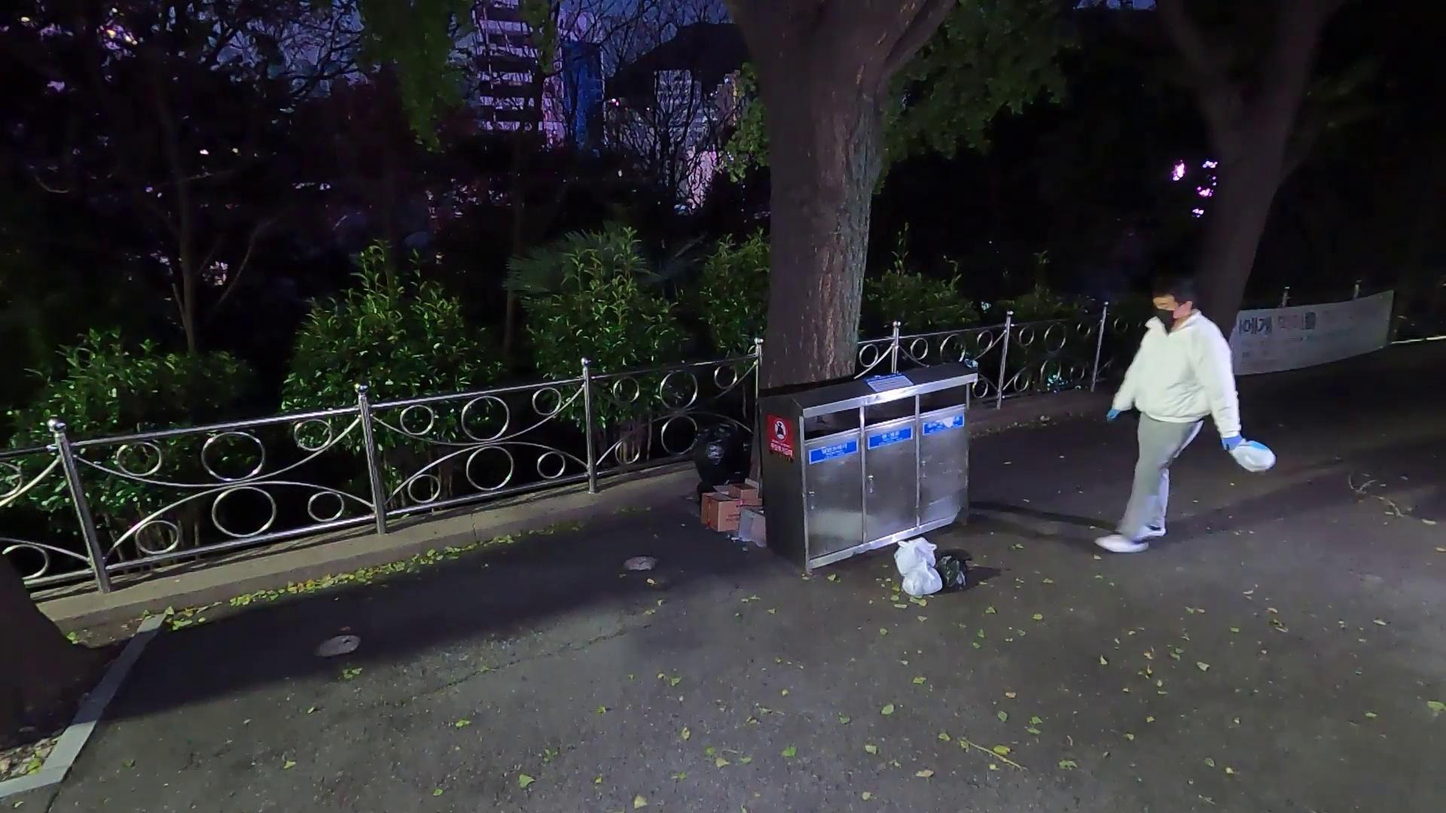person: (1092, 269, 1285, 564)
trash: (689, 419, 751, 482), (699, 487, 768, 534), (1223, 424, 1274, 483), (931, 547, 972, 597), (697, 471, 756, 504), (893, 536, 939, 574), (902, 559, 942, 599), (736, 501, 768, 548), (727, 478, 760, 505)
